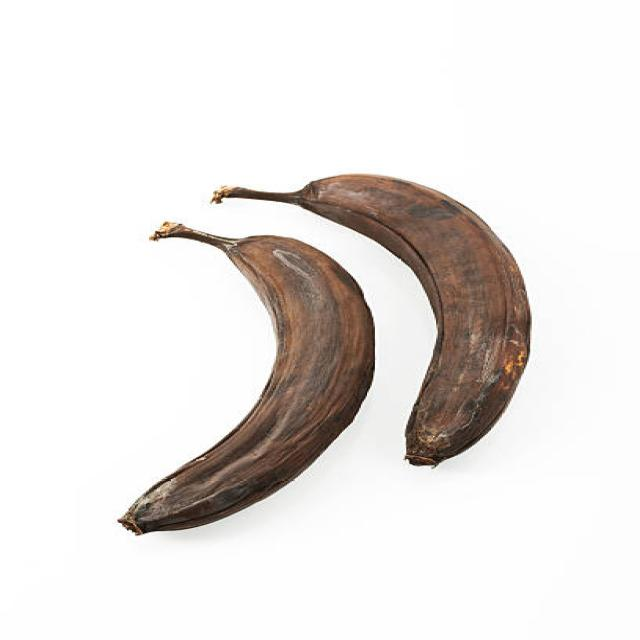Rotten: (122, 218, 373, 537)
